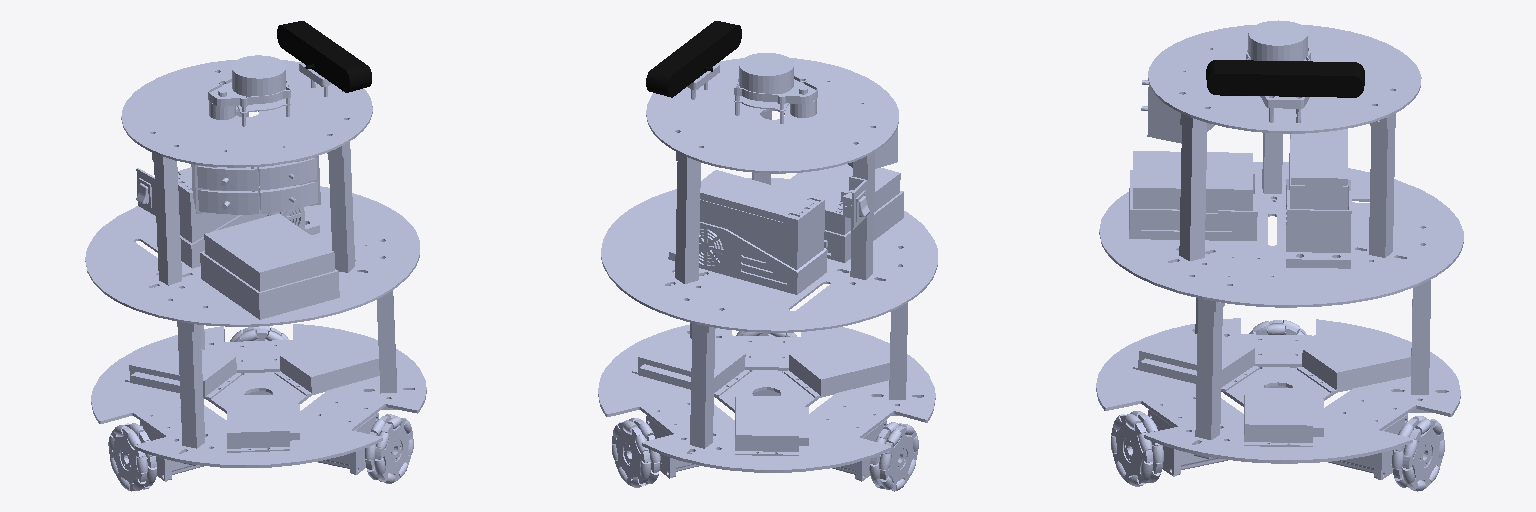
URDF robot description (urdf):
<?xml version="1.0" encoding="utf-8"?>
<!-- This URDF was automatically created by SolidWorks to URDF Exporter! Originally created by Stephen Brawner (brawner@gmail.com) 
     Commit Version: 1.6.0-4-g7f85cfe  Build Version: 1.6.7995.38578
     For more information, please see http://wiki.ros.org/sw_urdf_exporter -->
<robot
  name="urdf">
  <link
    name="base_link">
    <inertial>
      <origin
        xyz="-0.0103610174163686 -0.00830382462883425 0.122932450929879"
        rpy="0 0 0" />
      <mass
        value="5.9426976062483" />
      <inertia
        ixx="0.0214504889698301"
        ixy="6.34397033479604E-05"
        ixz="-0.000549301417330164"
        iyy="0.0226884445794113"
        iyz="0.000300885300016989"
        izz="0.0383375266674383" />
    </inertial>
    <visual>
      <origin
        xyz="0 0 0"
        rpy="0 0 0" />
      <geometry>
        <mesh
          filename="package://three_wheel_omni_robot/meshes/base_link.STL" />
      </geometry>
      <material
        name="">
        <color
          rgba="0.792156862745098 0.819607843137255 0.933333333333333 1" />
      </material>
    </visual>
    <collision>
      <origin
        xyz="0 0 0"
        rpy="0 0 0" />
      <geometry>
        <mesh
          filename="package://three_wheel_omni_robot/meshes/base_link.STL" />
      </geometry>
    </collision>
  </link>
  <link
    name="laser">
    <inertial>
      <origin
        xyz="-0.00829409957033963 -1.73472347597681E-17 0.0107011422227911"
        rpy="0 0 0" />
      <mass
        value="0.146695752131392" />
      <inertia
        ixx="6.22721120792817E-05"
        ixy="-2.03287907341032E-20"
        ixz="-1.88658076337421E-05"
        iyy="0.000109673997590948"
        iyz="-3.3881317890172E-20"
        izz="0.000125682524275729" />
    </inertial>
    <visual>
      <origin
        xyz="0 0 0"
        rpy="0 0 0" />
      <geometry>
        <mesh
          filename="package://three_wheel_omni_robot/meshes/laser.STL" />
      </geometry>
      <material
        name="">
        <color
          rgba="0.792156862745098 0.819607843137255 0.933333333333333 1" />
      </material>
    </visual>
    <collision>
      <origin
        xyz="0 0 0"
        rpy="0 0 0" />
      <geometry>
        <mesh
          filename="package://three_wheel_omni_robot/meshes/laser.STL" />
      </geometry>
    </collision>
  </link>
  <joint
    name="laser"
    type="fixed">
    <origin
      xyz="0 0 0.40208"
      rpy="0 0 0" />
    <parent
      link="base_link" />
    <child
      link="laser" />
    <axis
      xyz="0 0 0" />
  </joint>
  <link
    name="imu_link">
    <inertial>
      <origin
        xyz="-0.00105007910532071 0.000267497920274754 0.014332517433251"
        rpy="0 0 0" />
      <mass
        value="0.152248680442653" />
      <inertia
        ixx="0.000372323855042548"
        ixy="1.9710462307996E-09"
        ixz="-3.16417605453788E-08"
        iyy="2.29424096541118E-05"
        iyz="6.63900616205697E-06"
        izz="0.000374616586407174" />
    </inertial>
    <visual>
      <origin
        xyz="0 0 0"
        rpy="0 0 0" />
      <geometry>
        <mesh
          filename="package://three_wheel_omni_robot/meshes/cam.STL" />
      </geometry>
      <material
        name="">
        <color
          rgba="0.101960784313725 0.101960784313725 0.101960784313725 1" />
      </material>
    </visual>
    <collision>
      <origin
        xyz="0 0 0"
        rpy="0 0 0" />
      <geometry>
        <mesh
          filename="package://three_wheel_omni_robot/meshes/cam.STL" />
      </geometry>
    </collision>
  </link>
  <joint
    name="imu_link"
    type="fixed">
    <origin
      xyz="0.096216 0.0076976 0.40829"
      rpy="0 0 0" />
    <parent
      link="base_link" />
    <child
      link="imu_link" />
    <axis
      xyz="0 0 0" />
  </joint>
</robot>

--- Render facts (derived) ---
Views: 3 orthographic renders of the robot side by side, from view 1: azimuth 30°, elevation 25°; view 2: azimuth 150°, elevation 25°; view 3: azimuth 270°, elevation 25°.
Robot: urdf — 3 links, 2 joints (2 fixed); root link base_link; default pose: all joints at 0.
Links seen in each view (by area): view 1: base_link, laser, imu_link; view 2: base_link, laser, imu_link; view 3: base_link, imu_link, laser.
Link boxes in pixels (left/top/right/bottom): base_link: left=85, top=60, right=426, bottom=491; laser: left=208, top=55, right=290, bottom=126; imu_link: left=277, top=21, right=371, bottom=92; base_link: left=598, top=58, right=937, bottom=491; laser: left=734, top=53, right=817, bottom=123; imu_link: left=646, top=21, right=741, bottom=97; base_link: left=1096, top=24, right=1463, bottom=491; imu_link: left=1206, top=60, right=1364, bottom=97; laser: left=1246, top=20, right=1310, bottom=60.
Bounding box of the posed robot: 0.4059 × 0.4035 × 0.5183 m (x, y, z).
3 mesh visuals loaded from 3 distinct referenced files (3 binary STL).
